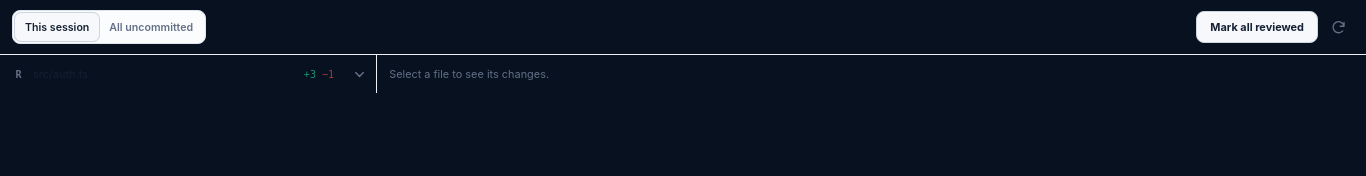
ChangesView › names the previous path of a renamed file
Click the button with class "changes-file-select".
click(60, 74)  # box [4, 59, 342, 89]
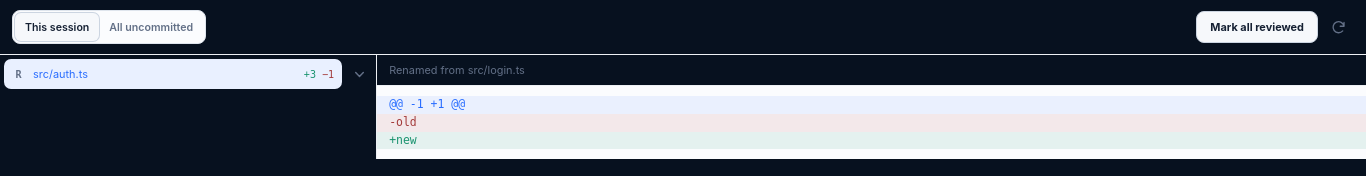
Expected: the text "Renamed from src/login.ts" is shown, [377, 55, 1365, 86]
Expected: the text "+new" is shown, [377, 132, 1365, 149]
